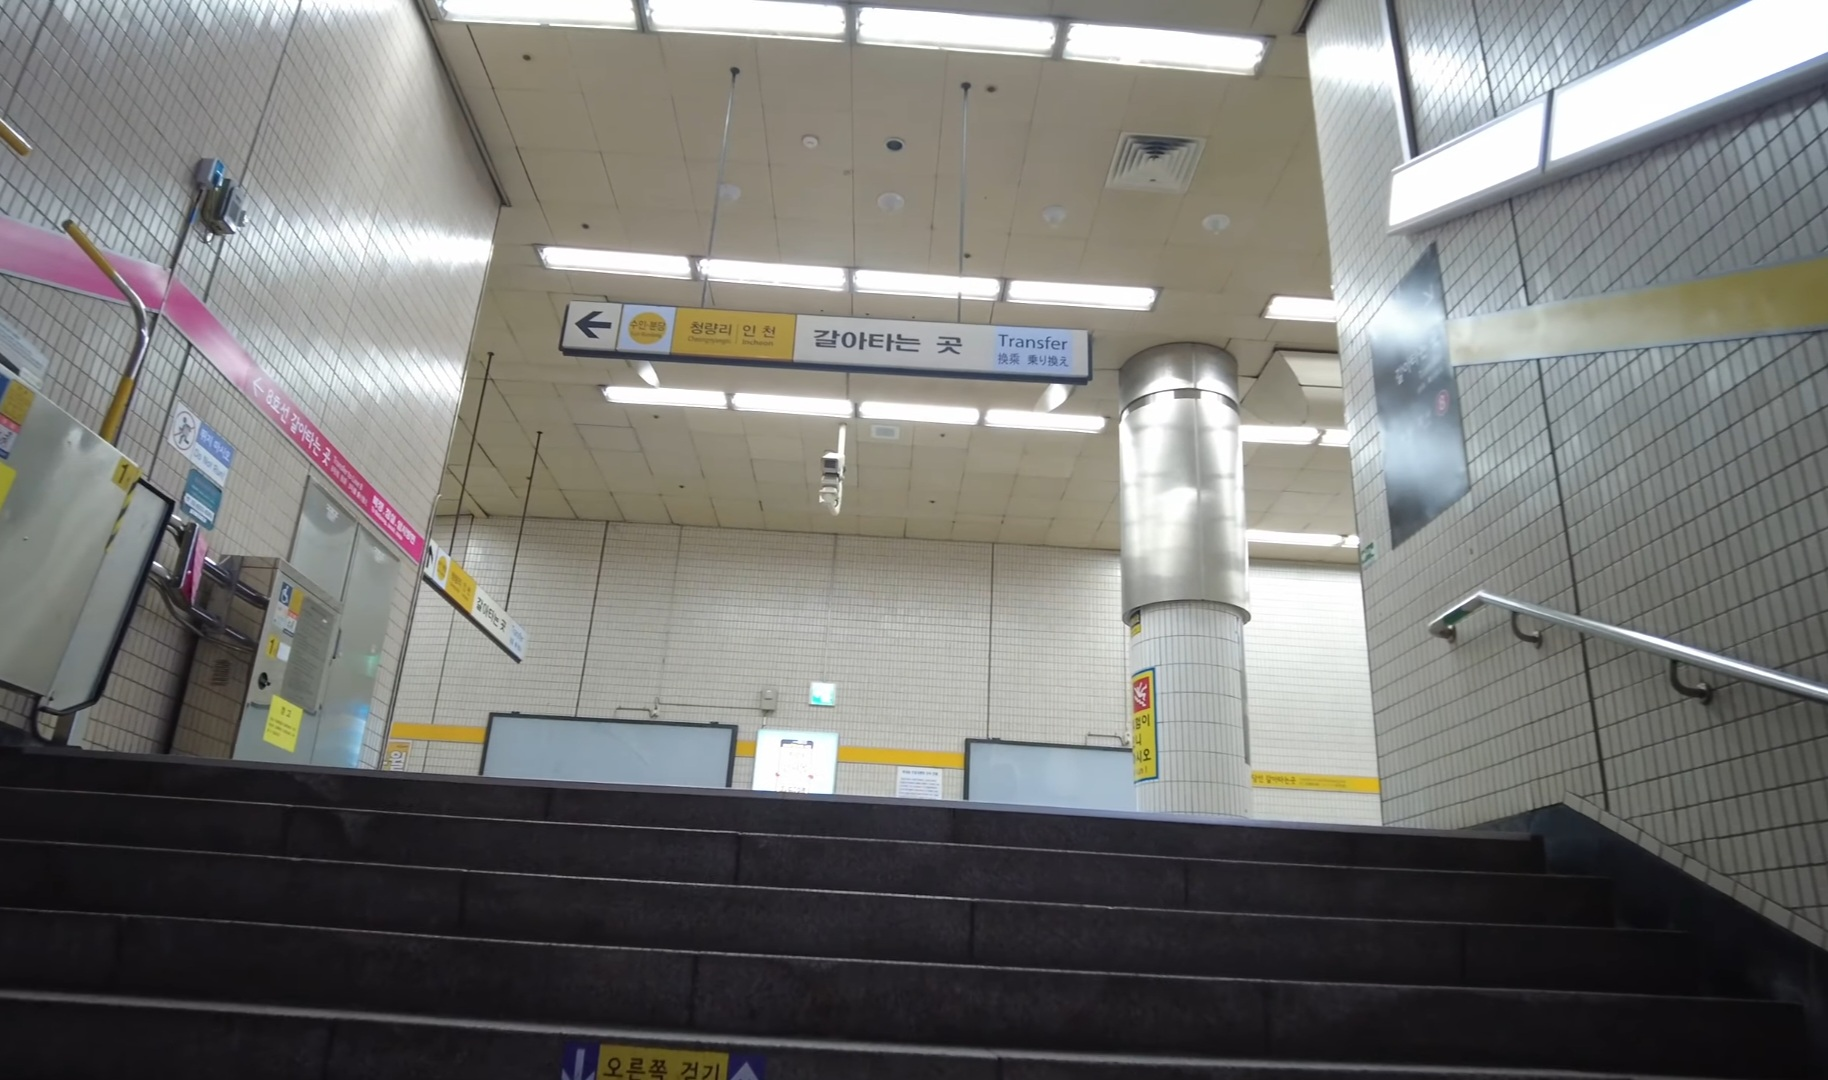signBoard: (542, 285, 1106, 393)
